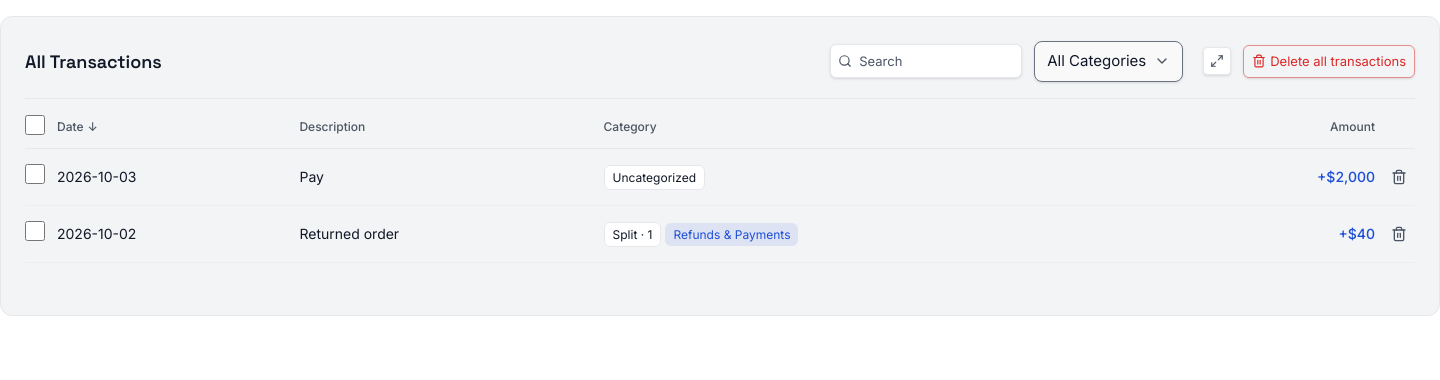
Scenario: Refunds & Payments list behavior › disables recategorization for mixed income and expense selections while keeping deletion
Click the checkbox named "Select all transactions" at [35, 124], box [25, 114, 45, 134]
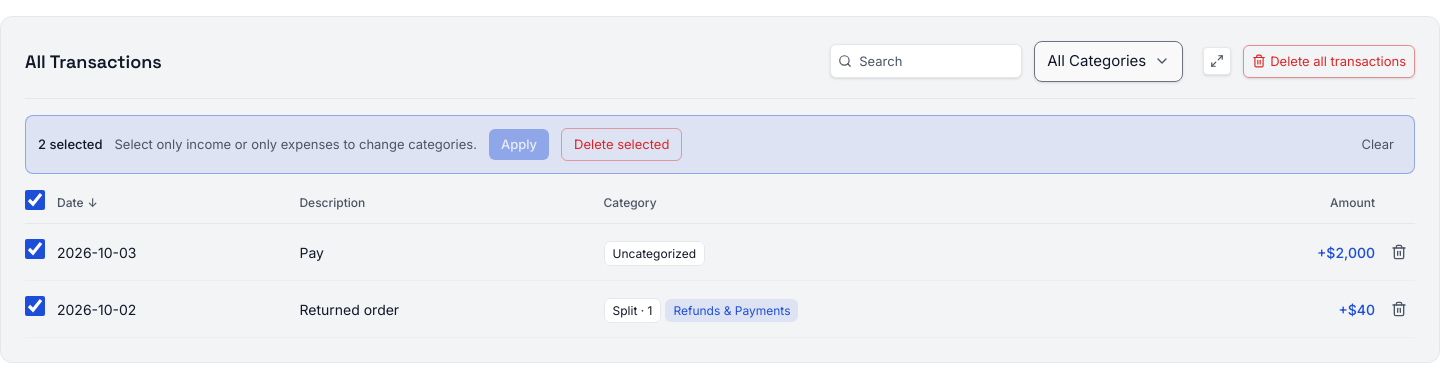
Check: the button "Apply" is disabled, box [489, 128, 549, 160]
Check: the text "Select only income or only expenses to change categories." is shown, box [114, 134, 477, 154]
Check: the button "Delete selected" is enabled, box [561, 128, 682, 161]
